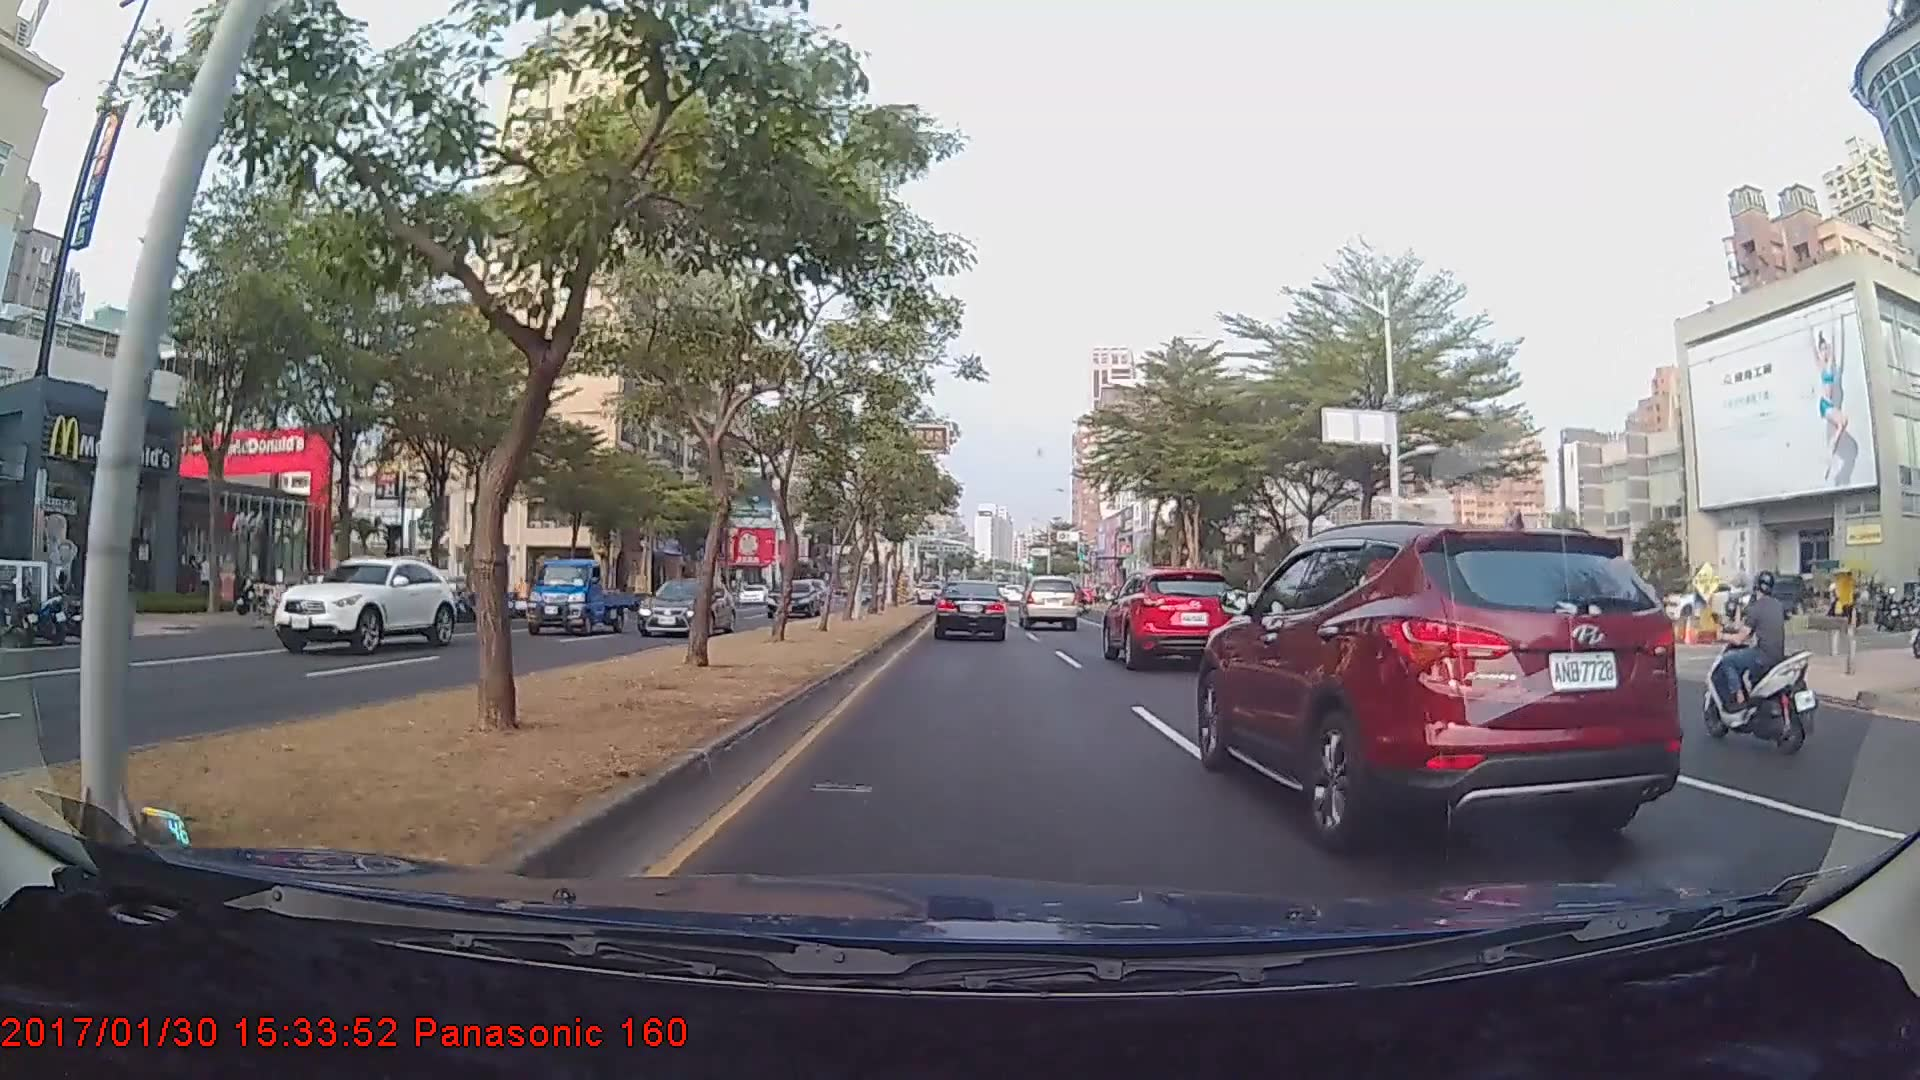rider: (1696, 566, 1821, 757)
vehicle: (1196, 523, 1682, 854), (268, 553, 457, 654), (1098, 564, 1243, 669), (525, 556, 633, 633), (636, 575, 735, 635), (932, 578, 1008, 641), (1019, 575, 1080, 630), (764, 578, 822, 618)
